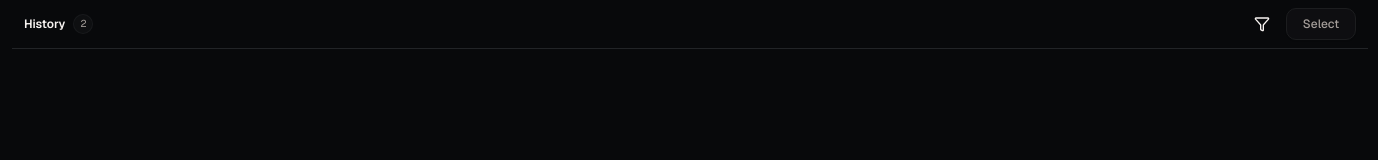
Scenario: PersistentImageGallery › bulk visibility actions › clears selection after successful visibility change
Later steps or results of the test are not shown.
Click the button with test id "toggle-selection" at (1321, 24), box [1286, 8, 1356, 40]
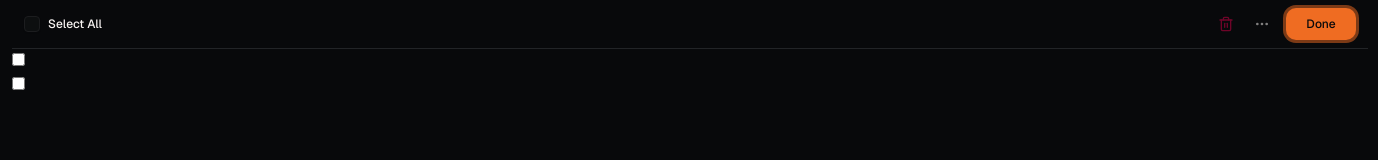
Click the 1st element with test id "gallery-thumbnail" at (18, 60), box [12, 53, 25, 66]
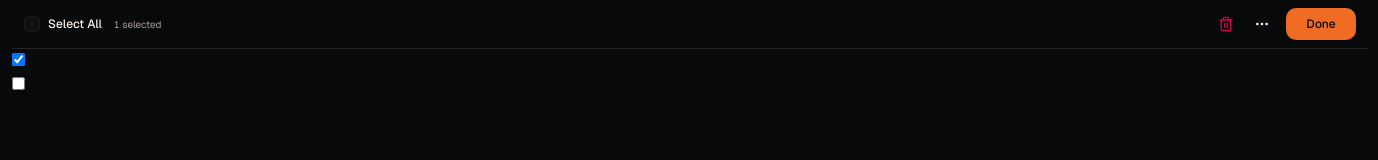
Expected: the text "1 selected" is shown, [114, 16, 162, 32]
